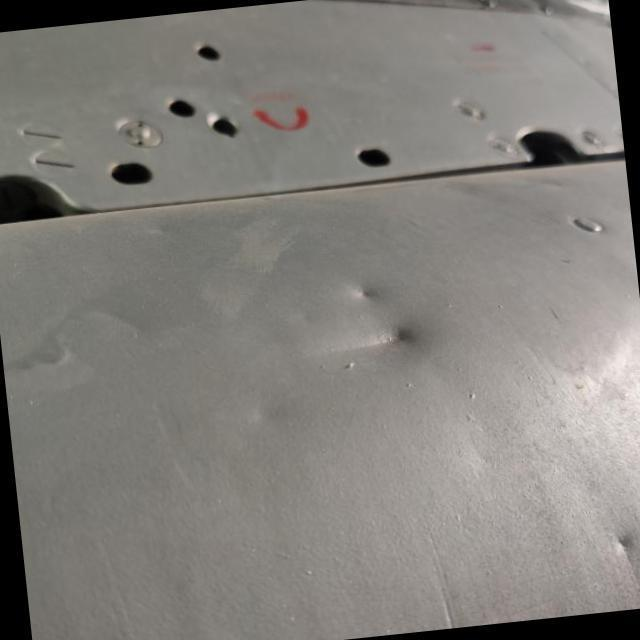Dent: (301, 311, 431, 373), (341, 270, 390, 315)
